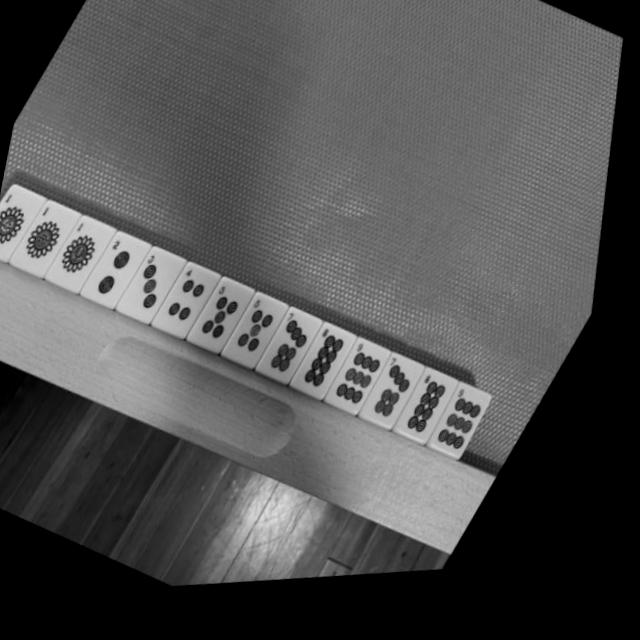sd1: (43, 210, 132, 311), (10, 196, 95, 291), (0, 180, 58, 273)
sd2: (79, 229, 166, 326)
sd3: (114, 246, 201, 343)
sd4: (149, 262, 236, 360)
sd5: (184, 279, 270, 376), (220, 296, 303, 391)
sd7: (253, 312, 337, 408), (356, 362, 438, 456)
sd8: (286, 328, 372, 426), (391, 380, 471, 472)
sd9: (320, 346, 405, 442), (425, 396, 505, 488)
